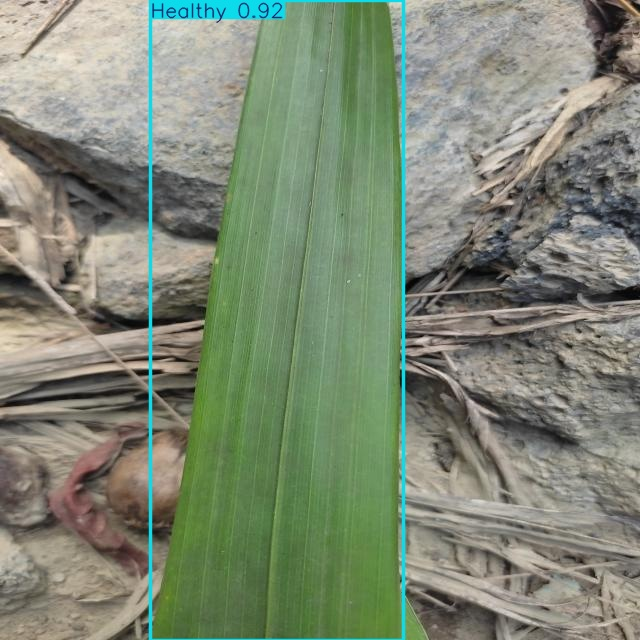Healthy: (150, 0, 404, 640)
